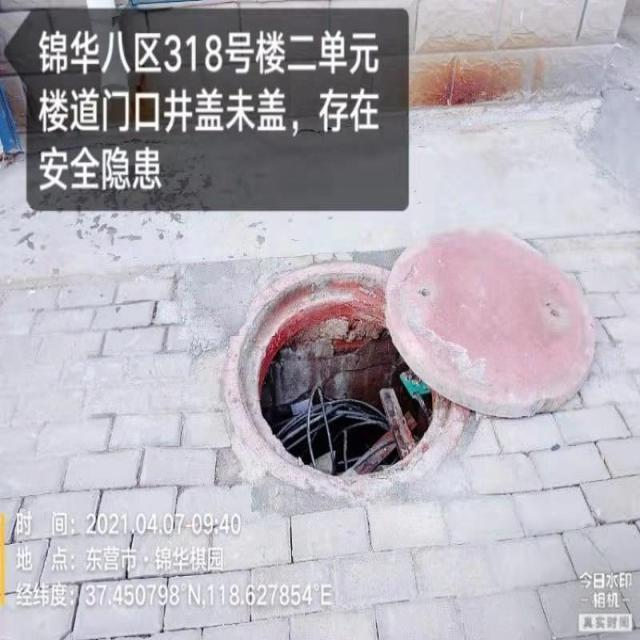manhole: (224, 262, 471, 496)
